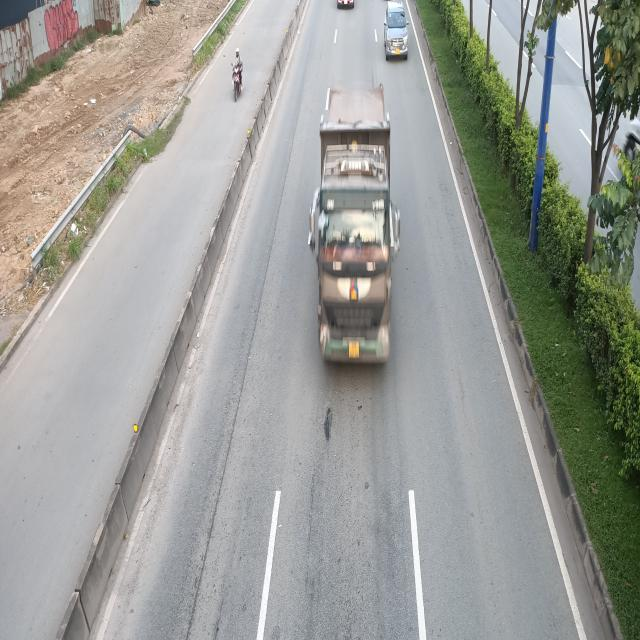car: (383, 1, 410, 62)
container: (313, 83, 406, 362)
